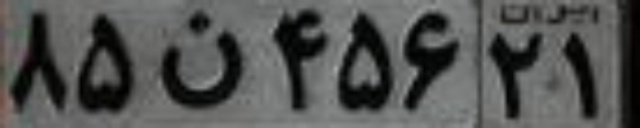1: (553, 29, 597, 119)
2: (488, 30, 547, 117)
4: (269, 13, 324, 110)
5: (75, 13, 134, 109), (336, 15, 390, 111)
6: (403, 13, 461, 110)
8: (11, 10, 68, 110)
non: (158, 8, 243, 107)
